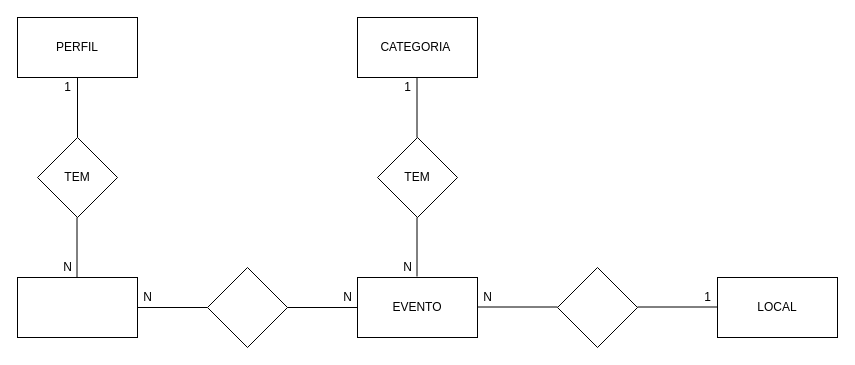
Some shapes in this 855 by 365 pixel diagram are drawn without their labels. Here are the shapes that lost their labels. From the top down, the centre of each, then its label:
At (x=77, y=307): "USUARIO".
At (x=247, y=307): "PARTICIPA".
At (x=597, y=307): "OCORRE".
